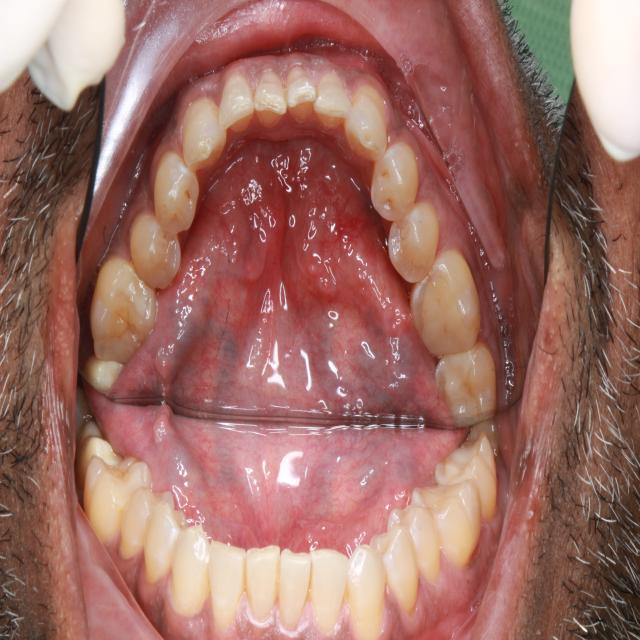tooth: (407, 242, 484, 367), (85, 252, 162, 367), (432, 336, 504, 428), (379, 195, 444, 289), (152, 146, 205, 242), (128, 204, 185, 292), (340, 78, 392, 166), (366, 141, 421, 224), (180, 92, 229, 175), (312, 68, 354, 136), (216, 70, 255, 136), (251, 67, 288, 130), (285, 63, 317, 131), (82, 351, 127, 398)
